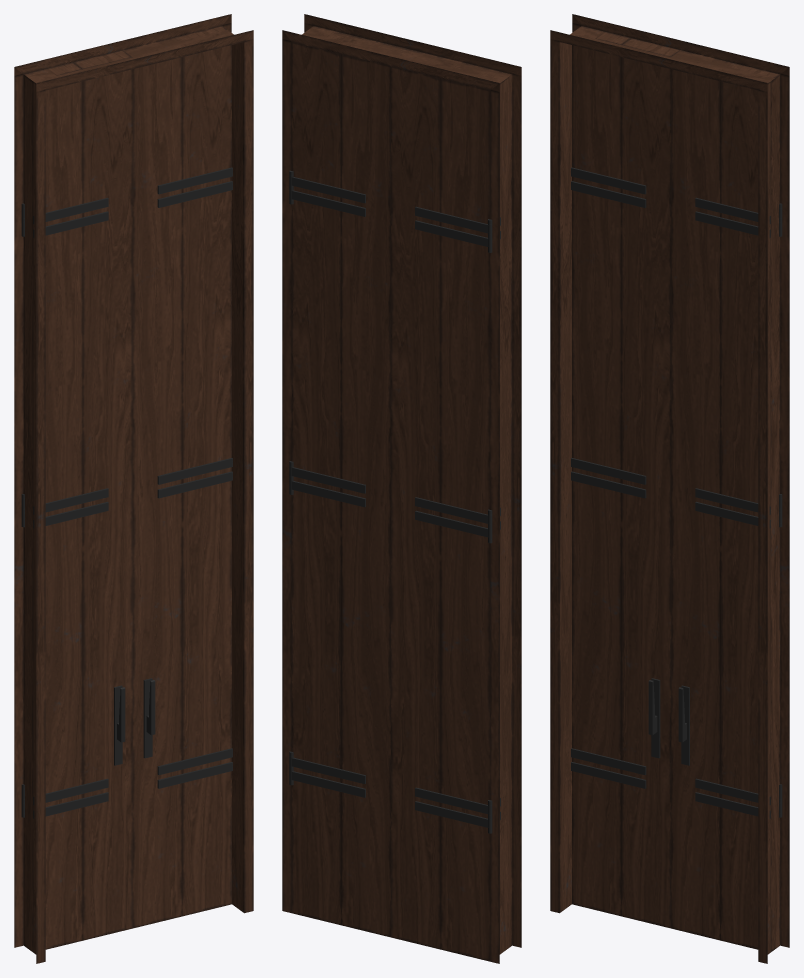
File: Door_D_Frame.fbx
3 renders of one model, left to right at view 1: azimuth 30°, elevation 25°; view 2: azimuth 150°, elevation 25°; view 3: azimuth 330°, elevation 25°, orthographic.
Parts seen in each view (by area): view 1: Door_D_A, Door_D_B, Door_D_Frame; view 2: Door_D_B, Door_D_A, Door_D_Frame; view 3: Door_D_B, Door_D_A, Door_D_Frame.
Part boxes in pixels (left/top/right/bottom): Door_D_A: left=132, top=26, right=232, bottom=928; Door_D_B: left=21, top=50, right=132, bottom=952; Door_D_Frame: left=14, top=14, right=253, bottom=963; Door_D_B: left=391, top=66, right=500, bottom=961; Door_D_A: left=289, top=42, right=390, bottom=937; Door_D_Frame: left=282, top=14, right=521, bottom=963; Door_D_B: left=571, top=31, right=680, bottom=928; Door_D_A: left=671, top=63, right=782, bottom=952; Door_D_Frame: left=550, top=14, right=789, bottom=963.
Bounding box in the file's own units: 1.1 × 0.2035 × 4.26.
